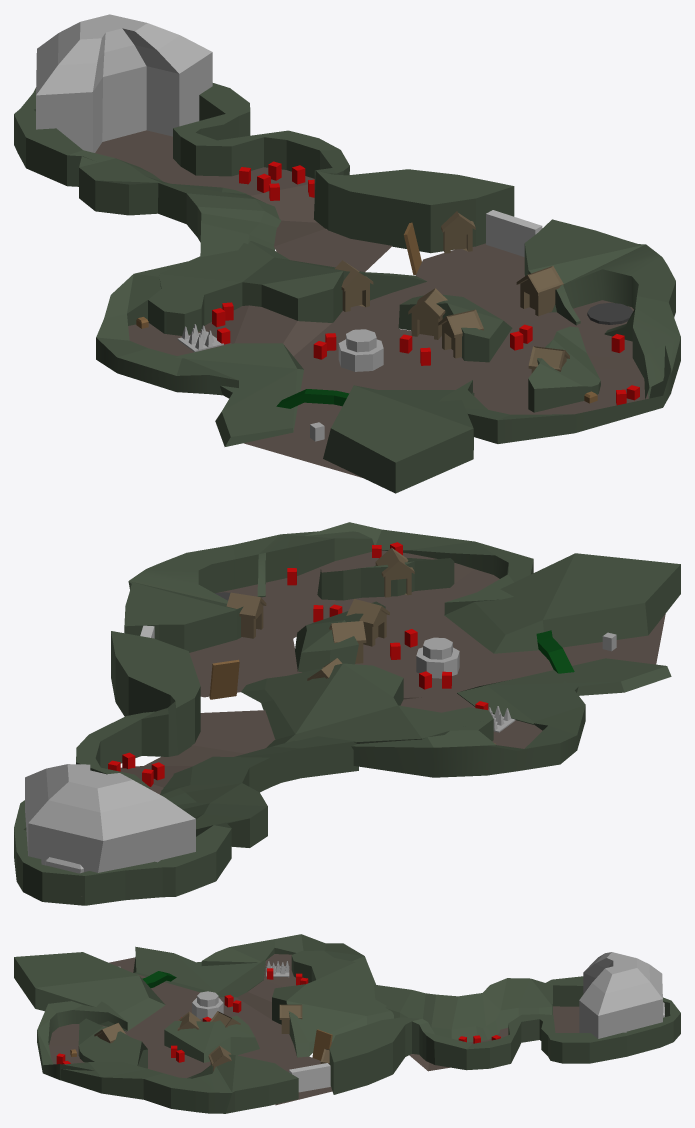
File: Level_1.fbx
3 views of the same model, one above another, from view 1: azimuth 30°, elevation 25°; view 2: azimuth 150°, elevation 25°; view 3: azimuth 270°, elevation 25° (orthographic). The views are drawn at different scales.
Parts seen in each view (by area): view 1: polySurface1, pPlane1, pCube44, polySurface2, pPlane2, pCube1, pCylinder1, pCube47, pCube46, pCube50, pCube45, pCube49 (+3 smaller); view 2: polySurface1, pPlane1, polySurface2, pCube44, pPlane2, pCylinder1, pCube47, pCube50, pCube43, pCube48, pCube41, pCube46; view 3: polySurface1, pPlane1, pCube44, polySurface2, pPlane2, pCube1, pCylinder1, pCube45, pCube43, pCube47, pCube41, pCube48.
Boxes of the visible parts, x1,y1,x2,y2 form: polySurface1: (14, 83, 680, 493); pPlane1: (128, 243, 648, 477); pCube44: (36, 14, 212, 152); polySurface2: (96, 261, 671, 443); pPlane2: (95, 130, 392, 271); pCube1: (486, 210, 542, 256); pCylinder1: (338, 329, 383, 371); pCube47: (516, 266, 563, 316); pCube46: (408, 288, 447, 339); pCube50: (438, 309, 483, 358); pCube45: (335, 260, 373, 311); pCube49: (441, 211, 475, 253); polySurface1: (14, 531, 680, 905); pPlane1: (189, 550, 665, 748); polySurface2: (305, 522, 585, 777); pCube44: (25, 764, 195, 873); pPlane2: (81, 710, 275, 896); pCylinder1: (416, 637, 459, 678); pCube47: (226, 592, 266, 638); pCube50: (346, 599, 389, 646); pCube43: (209, 659, 239, 699); pCube48: (375, 547, 414, 597); pCube41: (536, 630, 574, 673); pCube46: (329, 621, 366, 663); polySurface1: (14, 946, 680, 1113); pPlane1: (49, 954, 332, 1105); pCube44: (579, 952, 664, 1038); polySurface2: (37, 934, 375, 1080); pPlane2: (331, 1006, 579, 1071); pCube1: (289, 1063, 330, 1092); pCylinder1: (192, 991, 223, 1019); pCube45: (279, 1004, 302, 1033); pCube43: (312, 1029, 332, 1060); pCube47: (208, 1045, 231, 1071); pCube41: (142, 971, 176, 987); pCube48: (94, 1023, 125, 1043).
Size of the model in its own units: 16.9 by 3.73 by 28.91.
